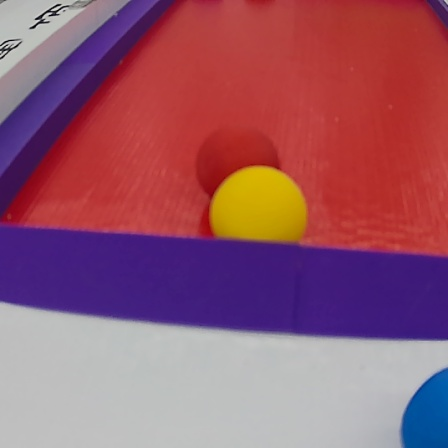blue: (393, 358, 448, 448)
red: (194, 128, 279, 205)
red_aim: (0, 0, 447, 345)
yellow: (208, 166, 312, 258)
